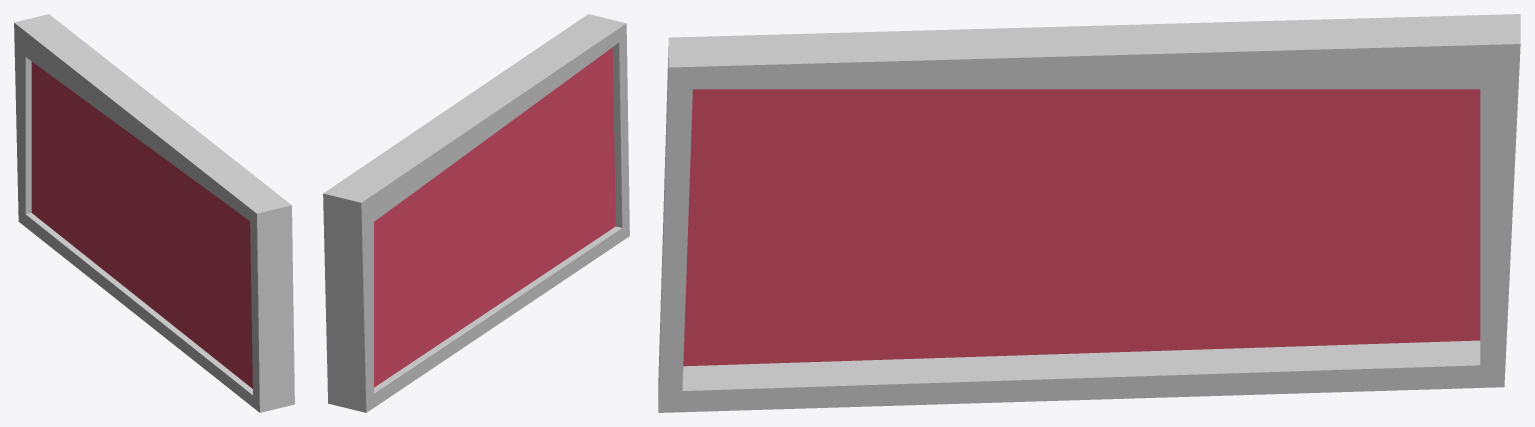
Rendered from MS_Frame2.fbx.
The picture shows the model from 3 angles, left to right: view 1: azimuth 30°, elevation 25°; view 2: azimuth 150°, elevation 25°; view 3: azimuth 270°, elevation 25°; orthographic projection. The views are drawn at different scales.
Parts seen in each view (by area): view 1: Plane.002; view 2: Plane.002; view 3: Plane.002.
Part boxes in pixels (x1,y1,x2,y2): Plane.002: (14, 14, 294, 412); Plane.002: (323, 14, 629, 412); Plane.002: (658, 14, 1520, 412).
Bounding box in the file's own units: 13.44 × 77.15 × 163.
